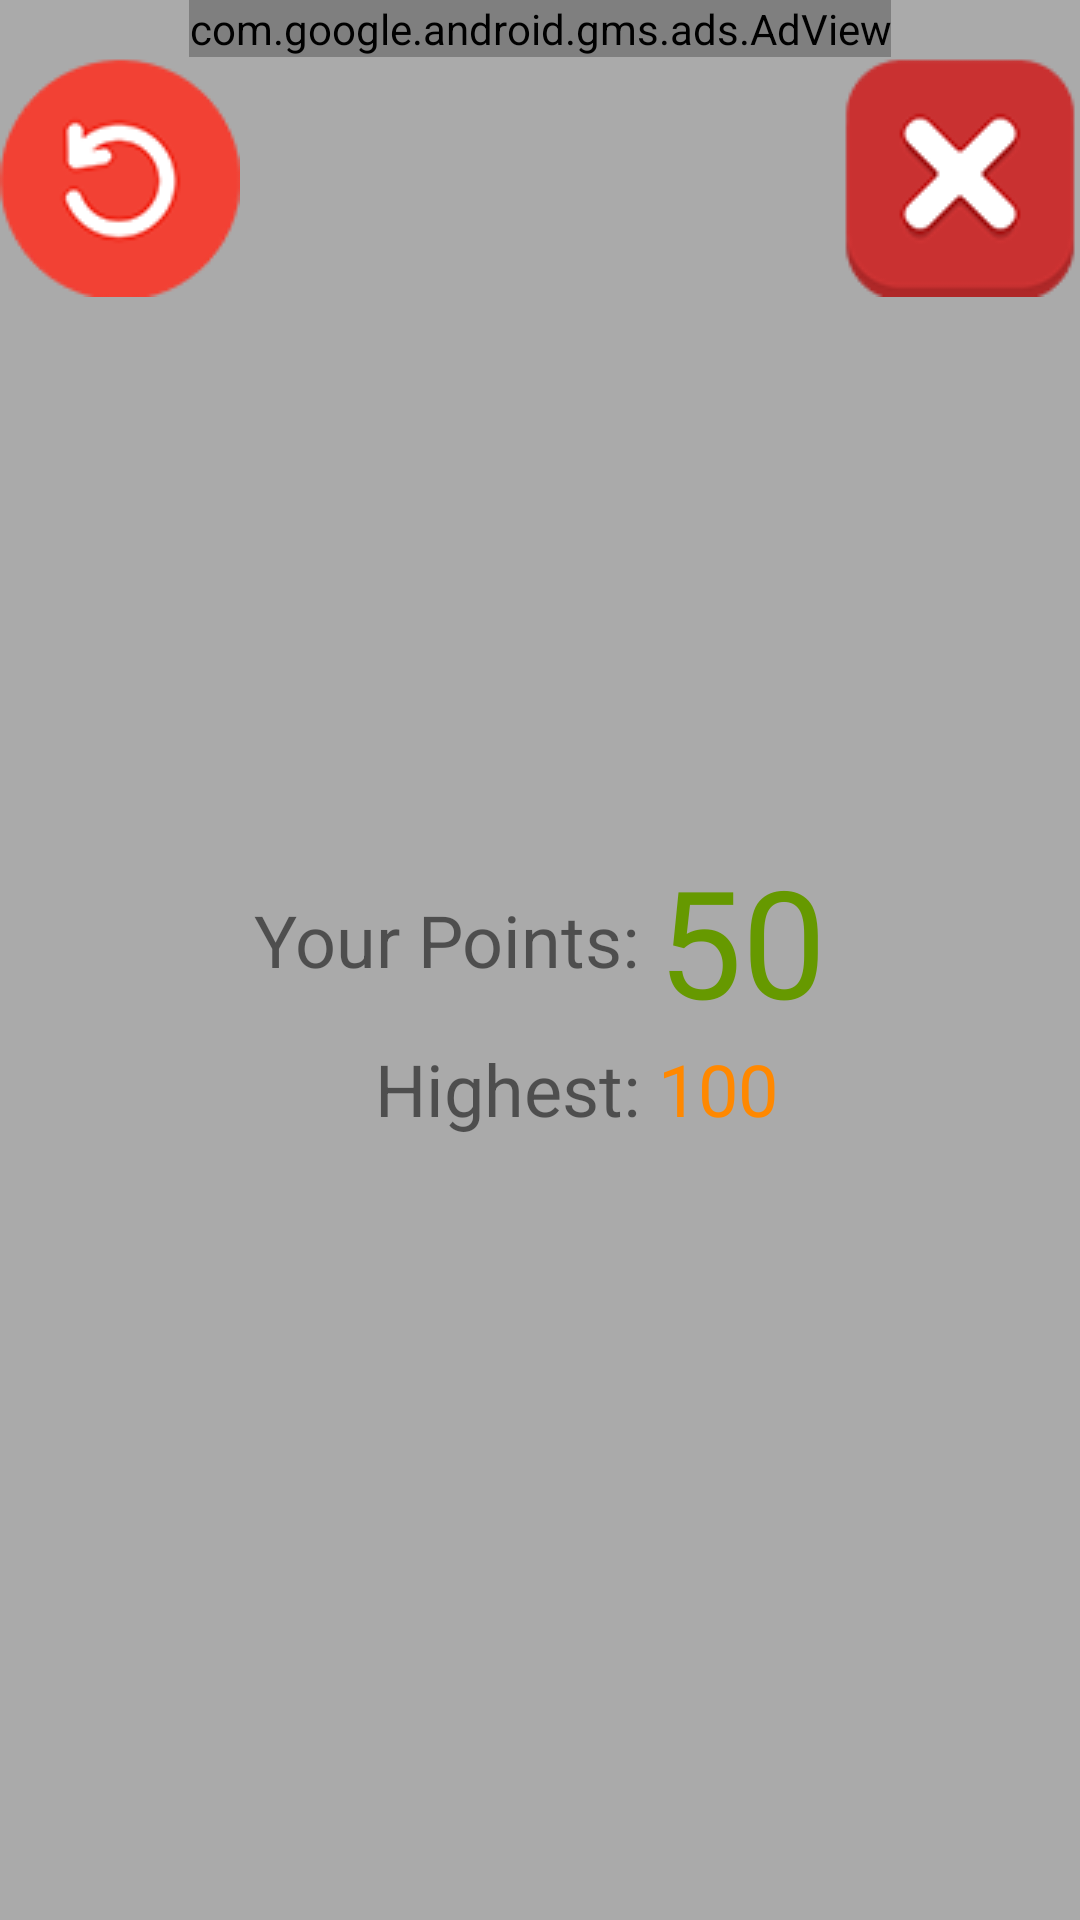

Locate icon controls on the screen. Image size 1080 x 1920, boxes as bbox=(x1, y1, x2, y2).
exit: bbox=(845, 59, 1075, 297)
restart: bbox=(0, 59, 240, 297)
